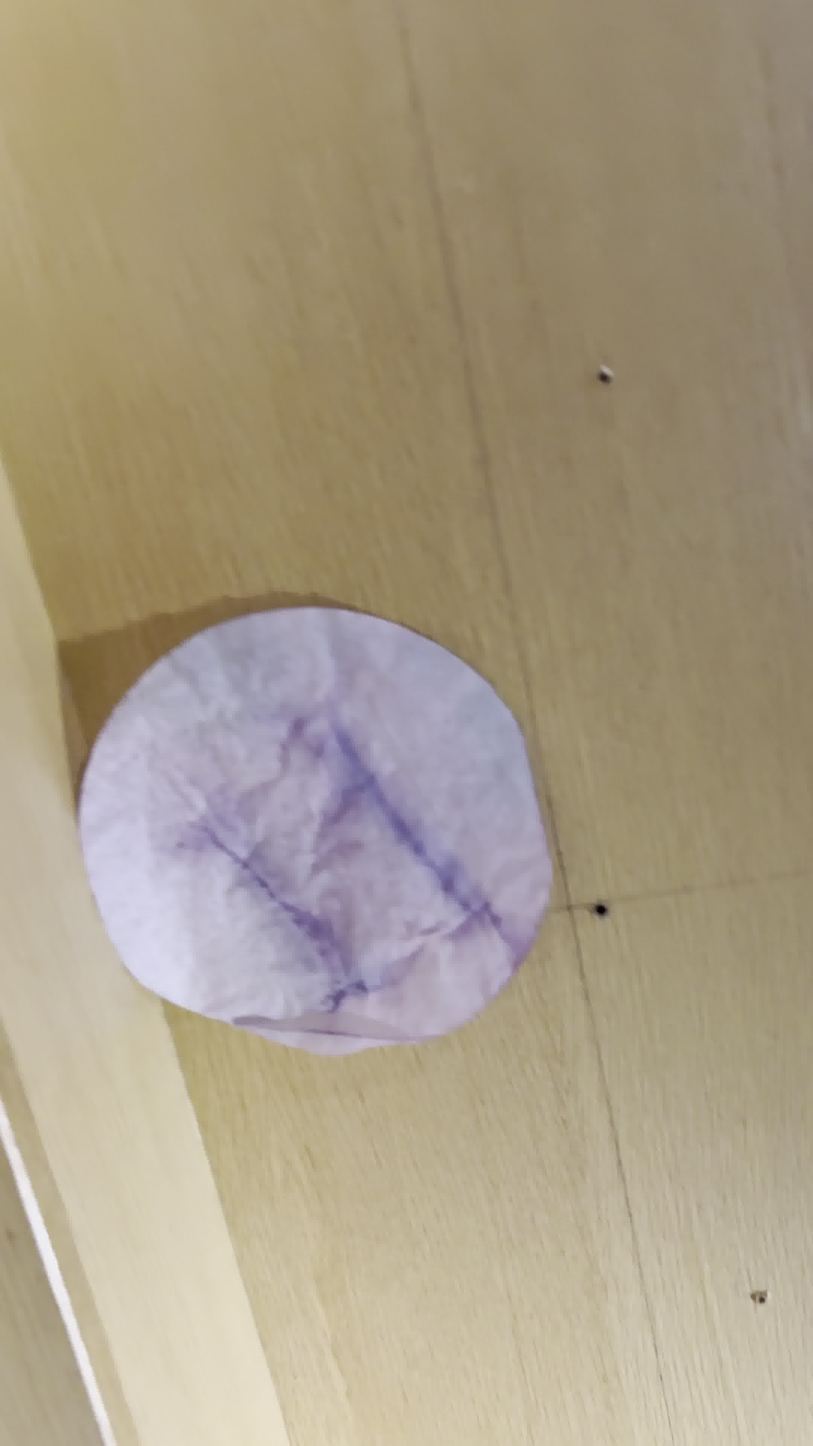Target: (81, 607, 553, 1055)
